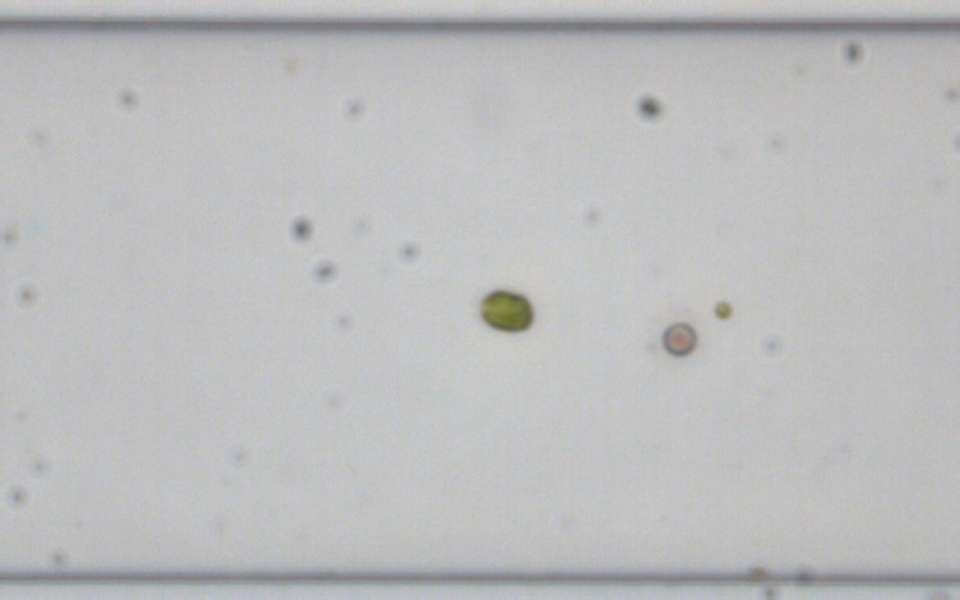Chlorella: (712, 298, 732, 319)
Platymonas: (477, 287, 533, 333)
Porphyridium: (660, 320, 697, 356)
